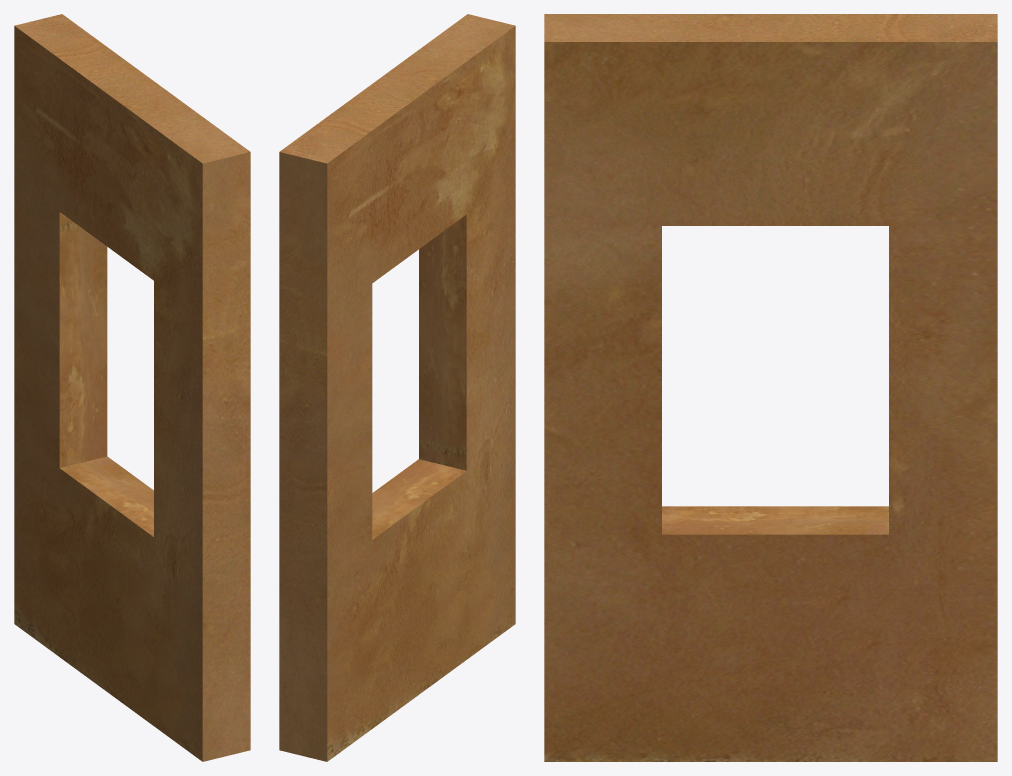
Rendered from OldHouseBrownWallSmallWindow.obj.
The picture shows the model from 3 angles, left to right: view 1: azimuth 30°, elevation 25°; view 2: azimuth 150°, elevation 25°; view 3: azimuth 270°, elevation 25°; orthographic projection. The views are drawn at different scales.
Visible parts, largest first — view 1: Box02; view 2: Box02; view 3: Box02.
Boxes of the visible parts, x1,y1,x2,y2 form: Box02: (14, 14, 250, 761); Box02: (279, 14, 515, 761); Box02: (544, 14, 997, 761).
Size of the model in its own units: 0.2933 by 3.5 by 2.
Materials: 1 (1 with a texture image).
